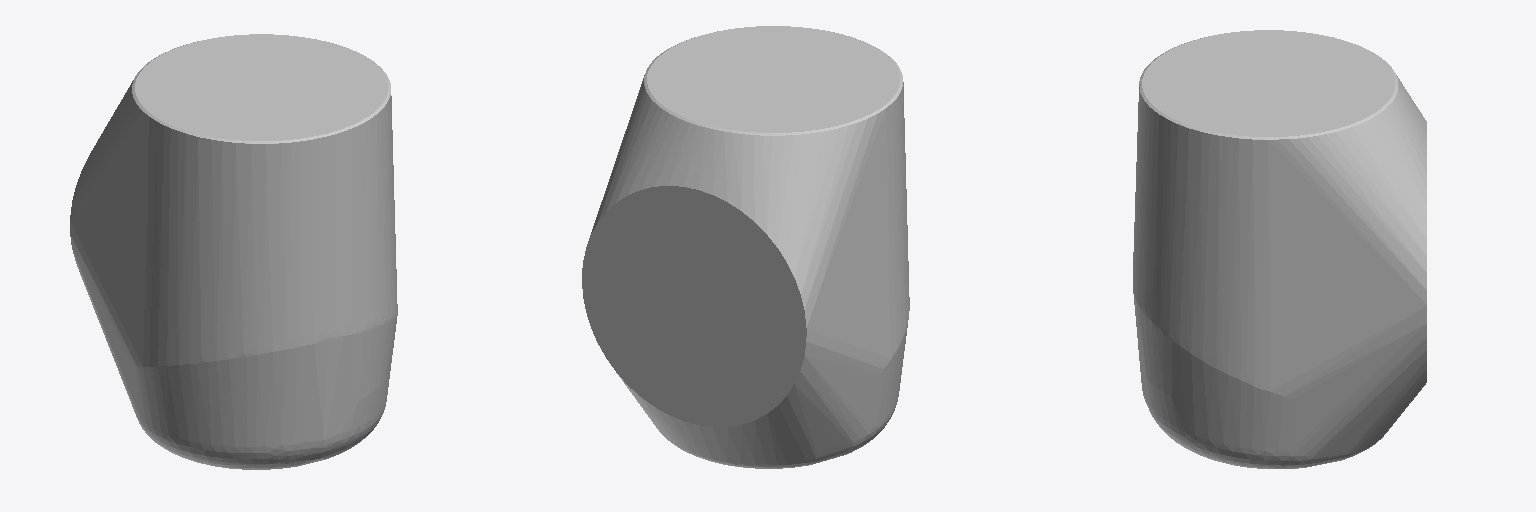
File: wrist_2_link_collisions_wrist2_mesh.obj
The picture shows the model from 3 angles: view 1: azimuth 30°, elevation 25°; view 2: azimuth 150°, elevation 25°; view 3: azimuth 270°, elevation 25°; orthographic projection.
Size of the model in its own units: 0.0787 by 0.1099 by 0.0852.